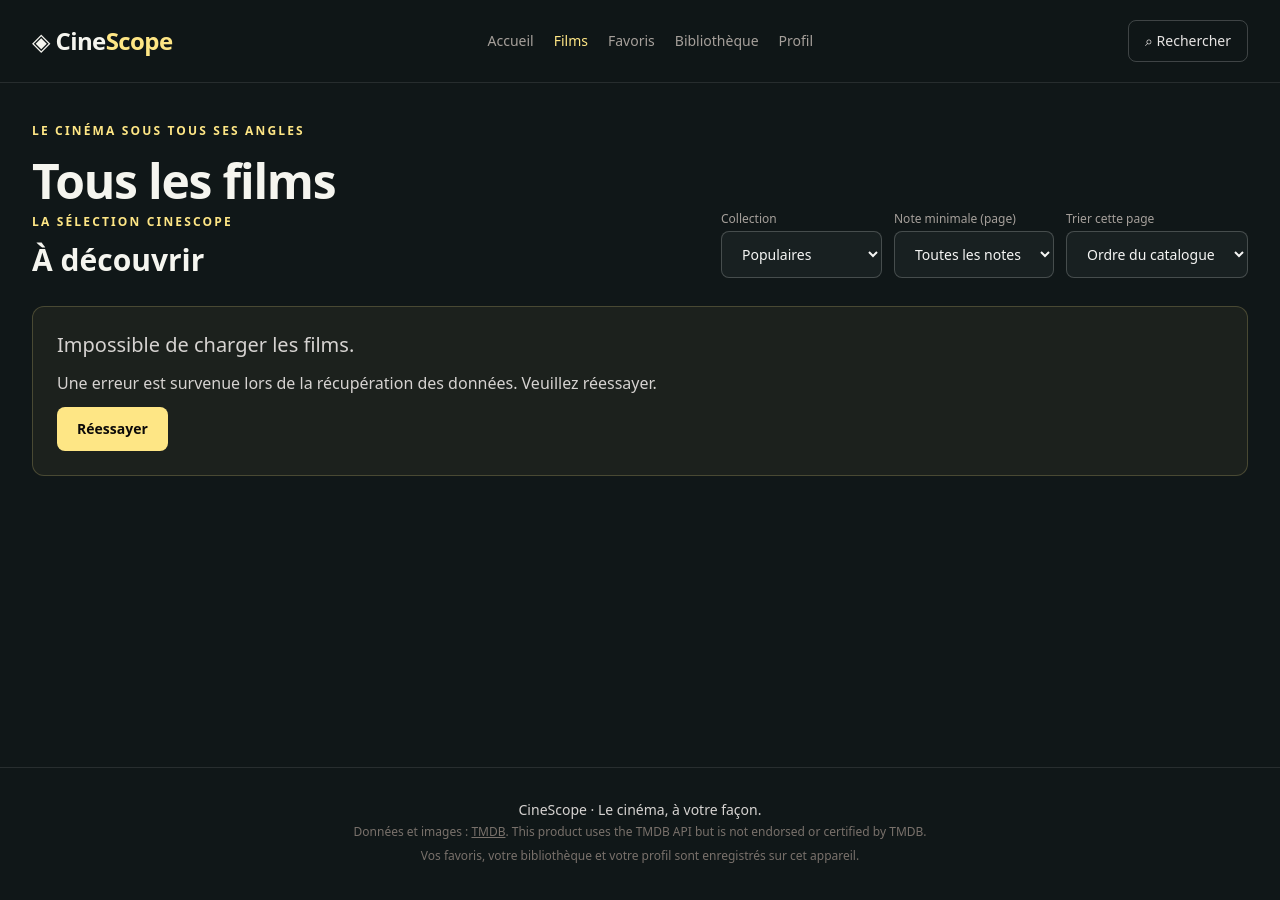
Test: TMDB et navigation › affiche une erreur puis permet de réessayer
The width and height of the screenshot is (1280, 900).
Expected: the heading "Impossible de charger les films." is shown, [57,331,354,358]
Click the button "Réessayer" at [112, 429], box [57,407,168,451]
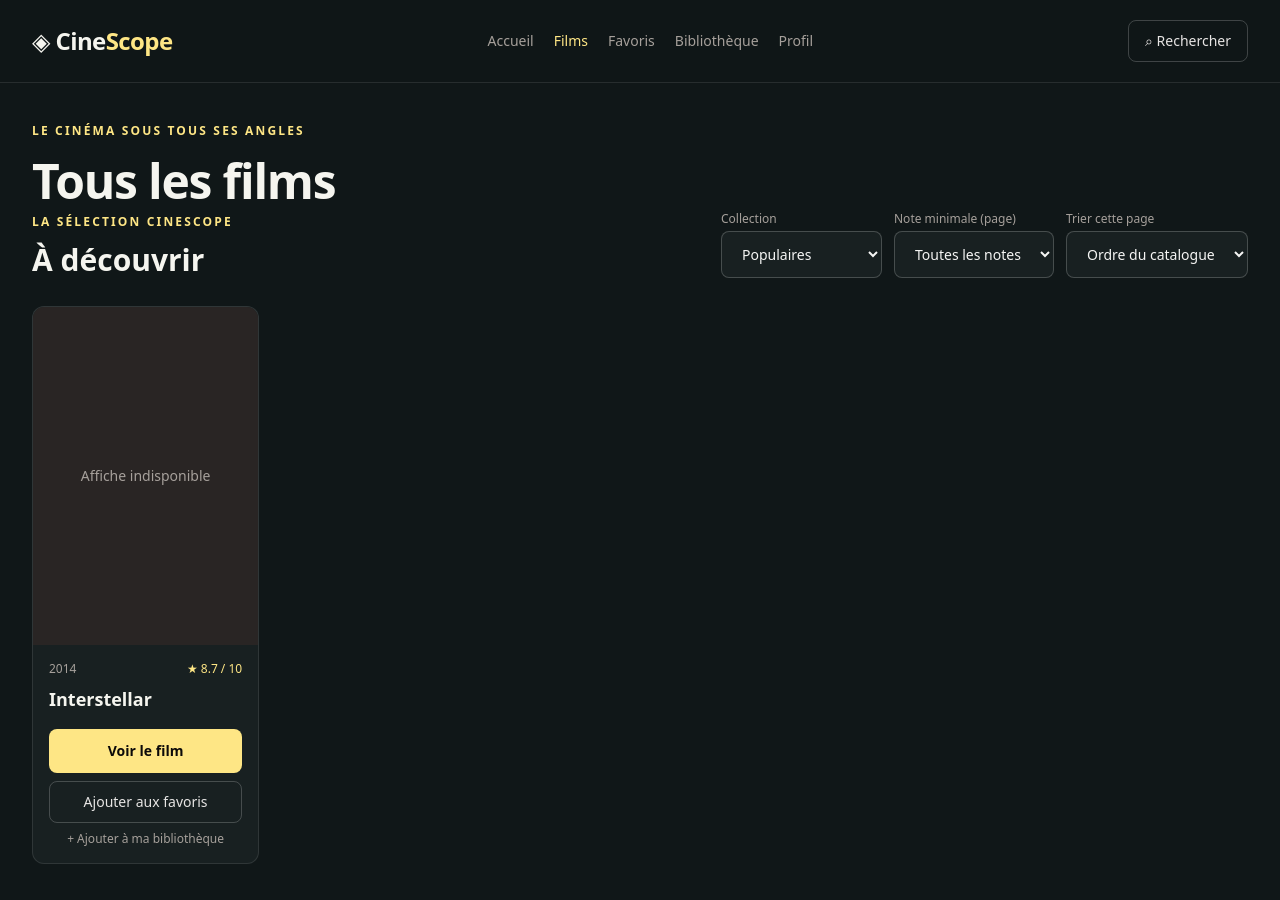
Expected: the heading "Interstellar" is shown, [49,687,152,711]
